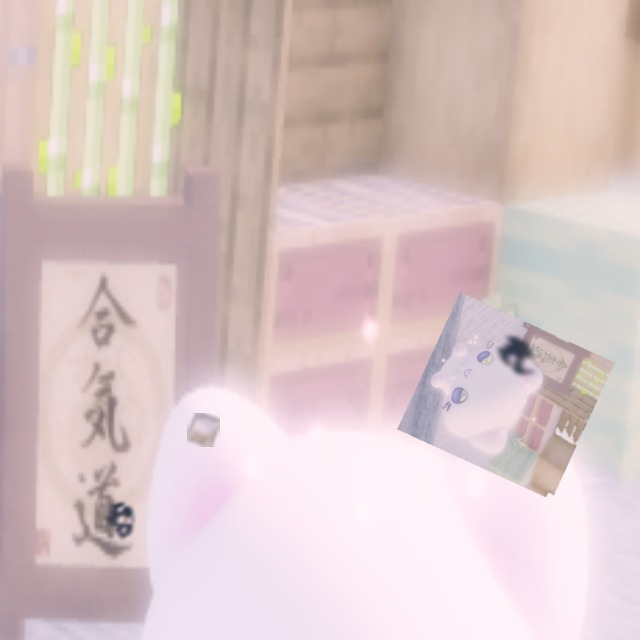urso_branco: (397, 292, 615, 500), (187, 413, 220, 447)
urso_preto: (487, 323, 550, 391), (101, 499, 142, 545)
